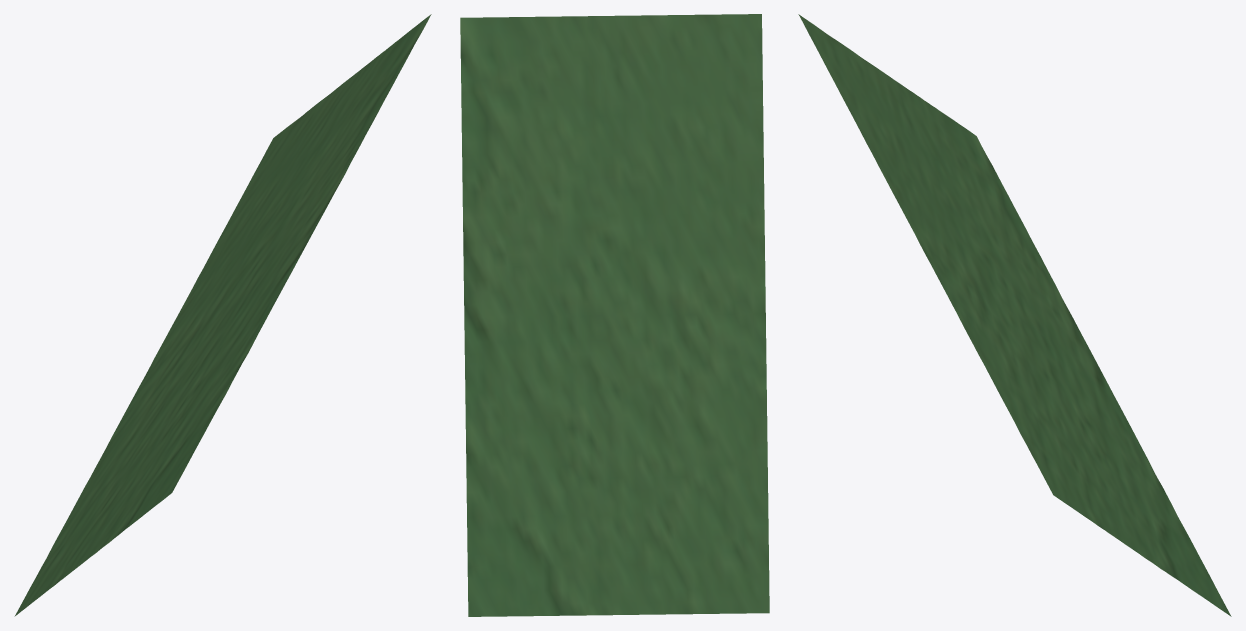
3 renders of one model, left to right at view 1: azimuth 30°, elevation 25°; view 2: azimuth 150°, elevation 25°; view 3: azimuth 270°, elevation 25°, orthographic. The views are drawn at different scales.
Bounding box in the file's own units: 9854 × 13346 × 9569.
